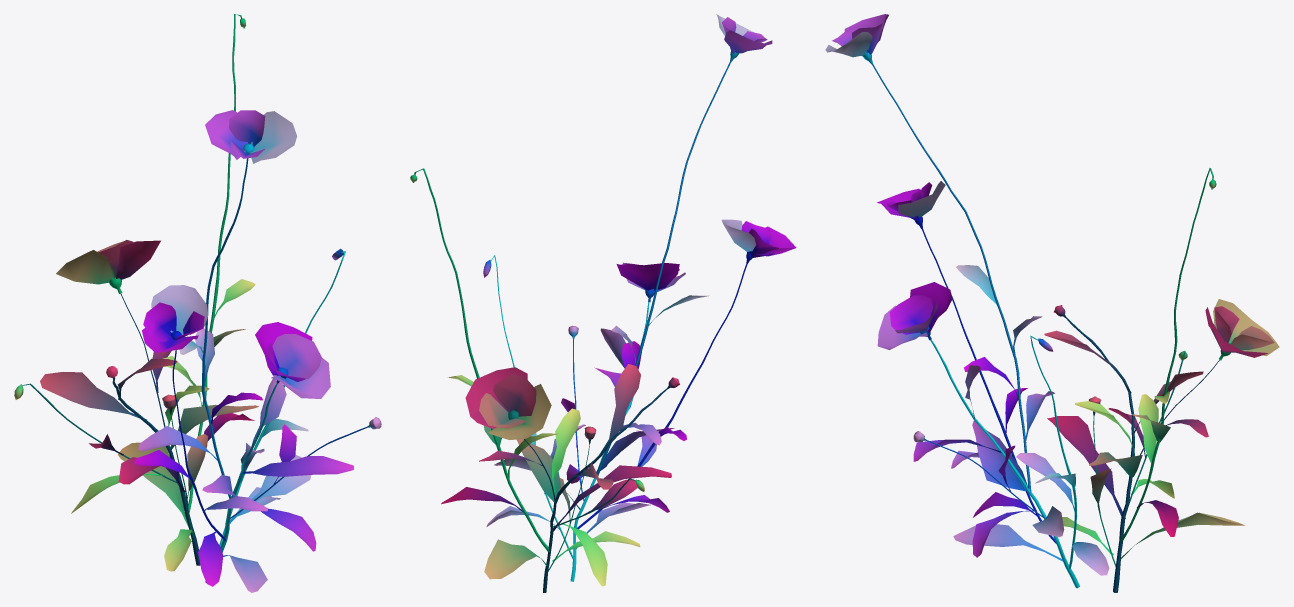
File: Field_Poppy_vmcobd0ja_Mid_vmcobd0ja_VarE_LOD0.fbx
3 views of the same model, side by side, from view 1: azimuth 30°, elevation 25°; view 2: azimuth 150°, elevation 25°; view 3: azimuth 270°, elevation 25° (orthographic). The views are drawn at different scales.
Visible parts, largest first — view 1: _zus5_VarE_LOD1; view 2: _zus5_VarE_LOD1; view 3: _zus5_VarE_LOD1.
Boxes of the visible parts, x1,y1,x2,y2 form: _zus5_VarE_LOD1: (14,14,381,592); _zus5_VarE_LOD1: (410,14,796,592); _zus5_VarE_LOD1: (825,14,1279,592).
Bounding box in the file's own units: 37.6 × 74.89 × 57.78.
